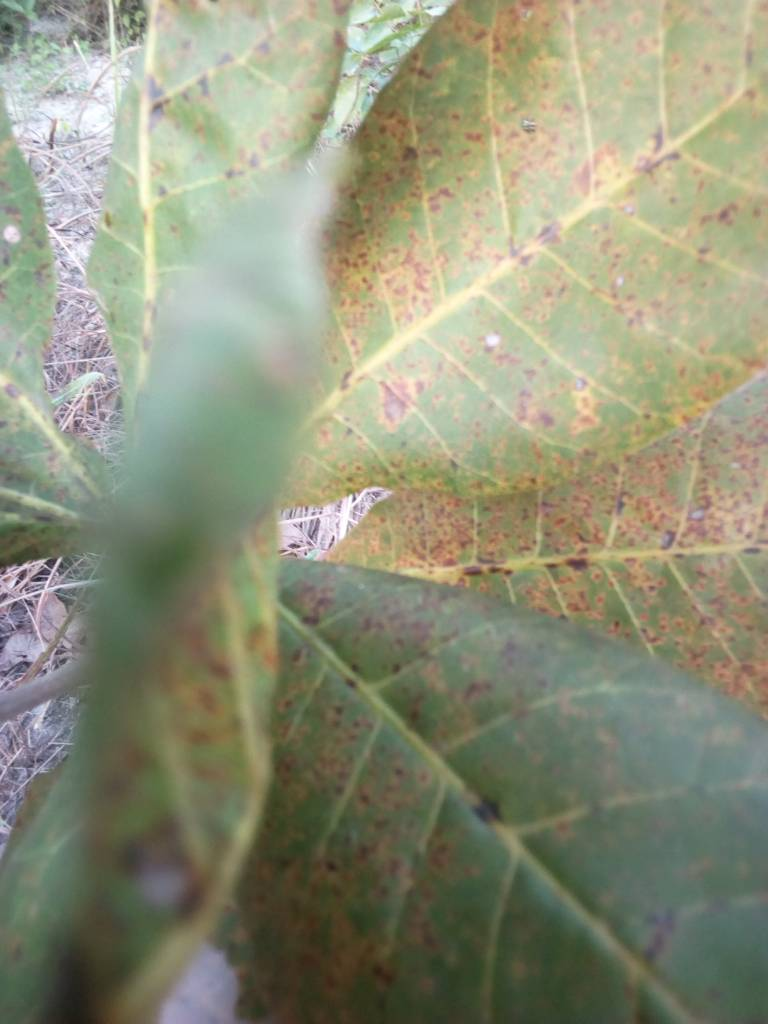Pestalotiose: (347, 1, 768, 488), (275, 636, 768, 1024), (341, 492, 768, 660), (121, 1, 355, 203)
